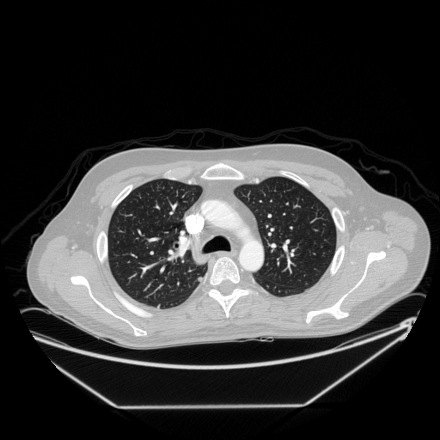nodule: (197, 277, 201, 281)
